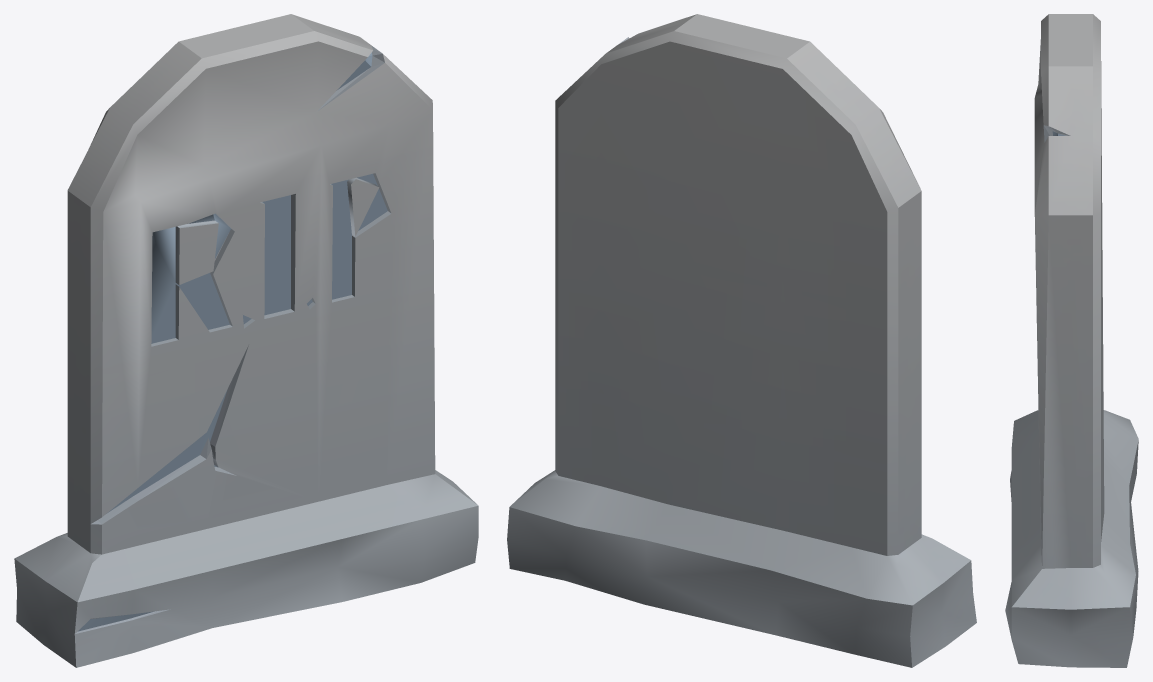
The model's file is RIP.FBX.
The picture shows the model from 3 angles, left to right: view 1: azimuth 30°, elevation 25°; view 2: azimuth 150°, elevation 25°; view 3: azimuth 270°, elevation 25°; orthographic projection. The views are drawn at different scales.
Visible parts, largest first — view 1: Line009; view 2: Line009; view 3: Line009.
Part boxes in pixels (<box>): Line009: <box>14,14,478,667</box>; Line009: <box>507,14,976,667</box>; Line009: <box>1005,14,1138,667</box>.
Size of the model in its own units: 169 by 49.91 by 220.
